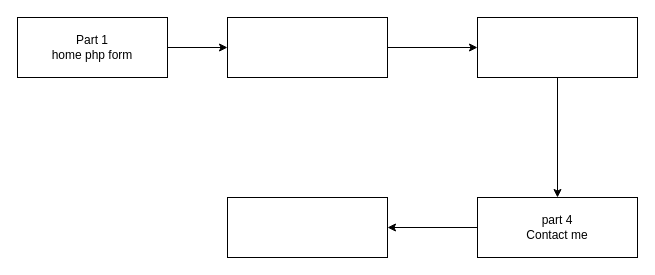
Some shapes in this 655 by 275 pixel diagram are drawn without their labels. The box of each missing label's shape, as (x1, y1, x2, y2) in pixels:
part 2 skills php form: (226, 16, 388, 78)
part 3 About: (476, 16, 638, 78)
